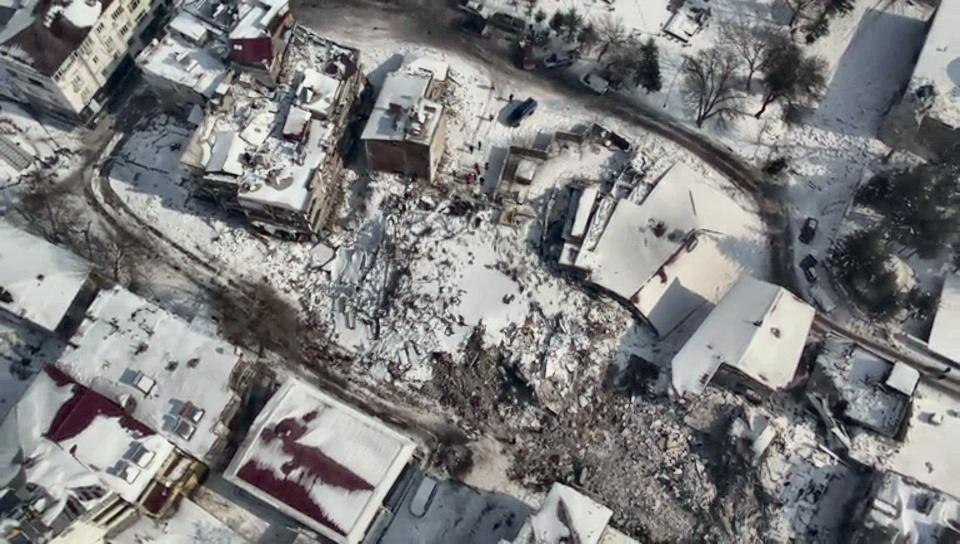kapali: (259, 296, 838, 543)
